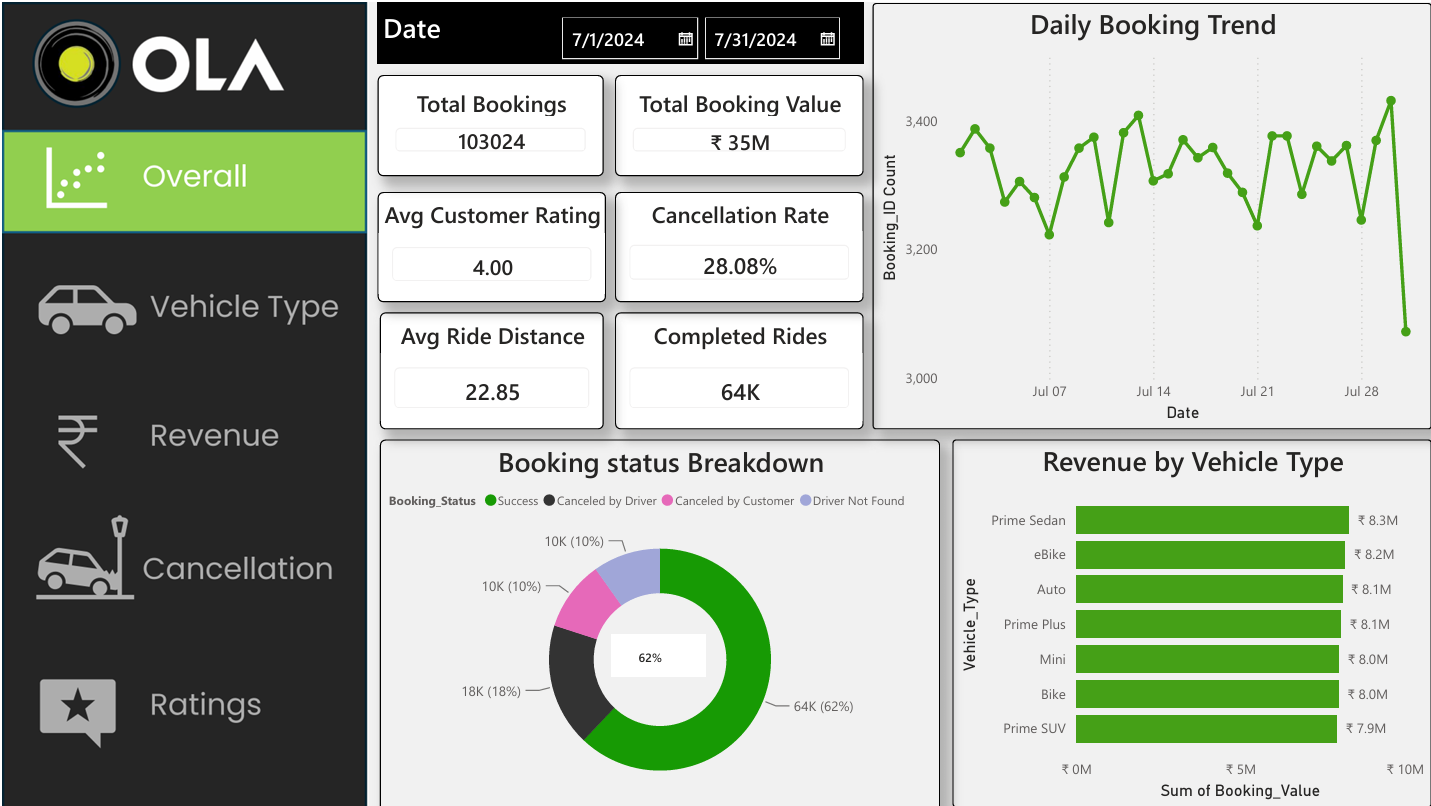

This screenshot's page, from the dashboard's own definition file:
{"tool":"powerbi","page":{"name":"Overall","canvas":[1280,720],"ordinal":0},"visuals":[{"type":"actionButton","box":[0,222.3,322.5,87.8],"z":0},{"type":"actionButton","box":[2.7,222.3,322.5,87.8],"z":1000},{"type":"actionButton","box":[1.4,341.7,322.5,91.9],"z":2000},{"type":"actionButton","box":[1.5,458.1,323.1,92.5],"z":3000},{"type":"actionButton","box":[2.7,580.4,321.1,90.6],"z":4000},{"type":"lineChart","title":"Daily Booking Trend","fields":{"Y":["CountNonNull(July.Booking_ID)"],"Category":["July.Date"]},"box":[772.5,0,497.5,378.8],"z":5000},{"type":"donutChart","title":"Booking status Breakdown","fields":{"Category":["July.Booking_Status"],"Y":["CountNonNull(July.Booking_ID)"]},"box":[335,387.5,497.5,332.5],"z":6000},{"type":"slicer","title":"Date","fields":{"Values":["July.Date"]},"box":[483.8,0,281.2,55],"z":7000},{"type":"cardVisual","title":"Total Booking Value","fields":{"Data":["Sum(July.Booking_Value)"]},"box":[543.8,63.8,221.2,90],"z":8000},{"type":"cardVisual","title":"Completed Rides","fields":{"Data":["July.Completed Rides"]},"box":[543.8,275,221.2,103.8],"z":9000},{"type":"cardVisual","title":"Avg Ride Distance","fields":{"Data":["July.average ride distance"]},"box":[335,275,198.8,103.8],"z":10000},{"type":"cardVisual","title":"Cancellation Rate","fields":{"Data":["July.CANCELLATION RATE"]},"box":[543.8,167.5,221.2,98.8],"z":11000},{"type":"cardVisual","title":"Avg Customer Rating","fields":{"Data":["July.Average customer rating"]},"box":[332.5,167.5,203.8,98.8],"z":12000},{"type":"clusteredBarChart","title":"Revenue by Vehicle Type","fields":{"Category":["July.Vehicle_Type"],"Y":["Sum(July.Booking_Value)"]},"box":[843.8,387.5,426.2,327.5],"z":13000},{"type":"cardVisual","title":"Total Bookings","fields":{"Data":["CountNonNull(July.Booking_ID)"]},"box":[332.5,63.8,201.2,90],"z":14000},{"type":"textbox","box":[332.5,0,151.2,55],"z":15000},{"type":"cardVisual","fields":{"Data":["July.Success rate text"]},"box":[536.2,556.2,93.8,47.5],"z":16000}]}

Visuals, with their boxes in screenshot pixels (x1, y1, x2, y2), scaled from the page's 1280x720 canvas onto the 1431x806 screenshot:
actionButton: locate(0, 249, 361, 347)
actionButton: locate(3, 249, 364, 347)
actionButton: locate(2, 383, 362, 485)
actionButton: locate(2, 513, 363, 616)
actionButton: locate(3, 650, 362, 751)
"Daily Booking Trend" lineChart: locate(864, 0, 1420, 424)
"Booking status Breakdown" donutChart: locate(375, 434, 931, 805)
"Date" slicer: locate(541, 0, 855, 62)
"Total Booking Value" cardVisual: locate(608, 71, 855, 172)
"Completed Rides" cardVisual: locate(608, 308, 855, 424)
"Avg Ride Distance" cardVisual: locate(375, 308, 597, 424)
"Cancellation Rate" cardVisual: locate(608, 188, 855, 298)
"Avg Customer Rating" cardVisual: locate(372, 188, 600, 298)
"Revenue by Vehicle Type" clusteredBarChart: locate(943, 434, 1420, 800)
"Total Bookings" cardVisual: locate(372, 71, 597, 172)
textbox: locate(372, 0, 541, 62)
cardVisual - July.Success rate text: locate(599, 623, 704, 676)
